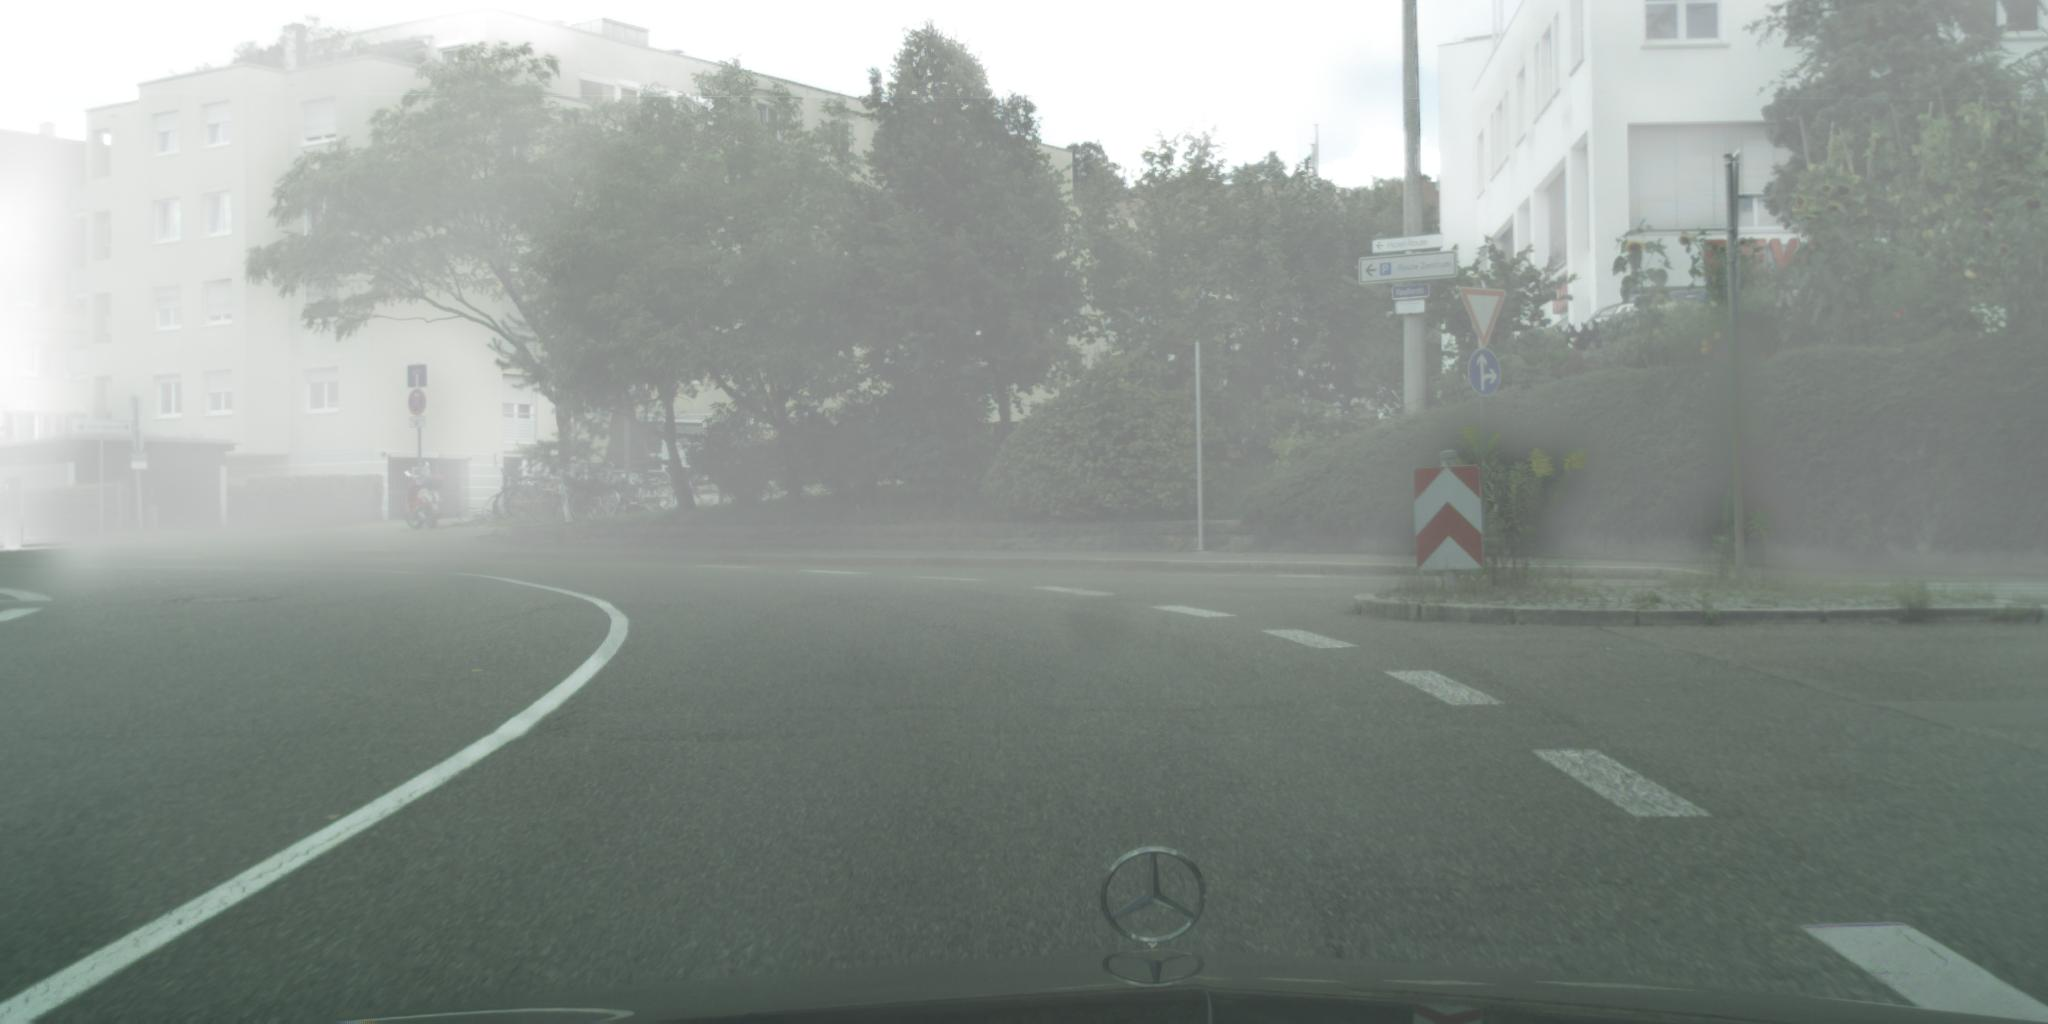motorcycle: (404, 462, 445, 532)
